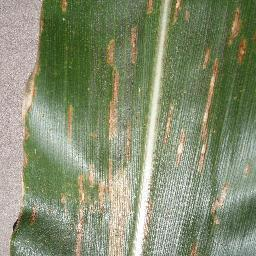Gray_Leaf_Spot: (103, 59, 120, 145), (96, 168, 132, 207), (106, 210, 130, 254), (126, 20, 141, 70), (17, 76, 40, 101), (202, 83, 216, 123), (197, 120, 208, 170), (70, 226, 88, 256), (208, 196, 227, 224), (25, 47, 42, 77), (124, 112, 134, 162), (175, 125, 188, 163), (10, 186, 20, 235), (15, 97, 35, 121), (209, 56, 223, 90), (13, 120, 32, 145), (144, 195, 154, 238), (235, 31, 246, 65), (216, 180, 234, 198), (74, 172, 86, 199), (74, 198, 86, 225), (232, 6, 242, 37), (65, 102, 72, 146), (19, 145, 30, 172), (87, 159, 97, 188), (27, 199, 37, 227), (105, 35, 115, 63), (182, 244, 205, 256), (36, 5, 43, 44), (200, 44, 211, 68), (57, 0, 70, 17), (59, 189, 68, 213), (164, 101, 173, 124), (162, 120, 171, 143), (141, 0, 152, 17), (173, 0, 180, 26), (219, 34, 233, 47), (89, 205, 103, 218), (241, 164, 252, 177), (183, 10, 192, 25), (89, 127, 99, 140), (108, 157, 113, 182), (252, 29, 256, 44)
